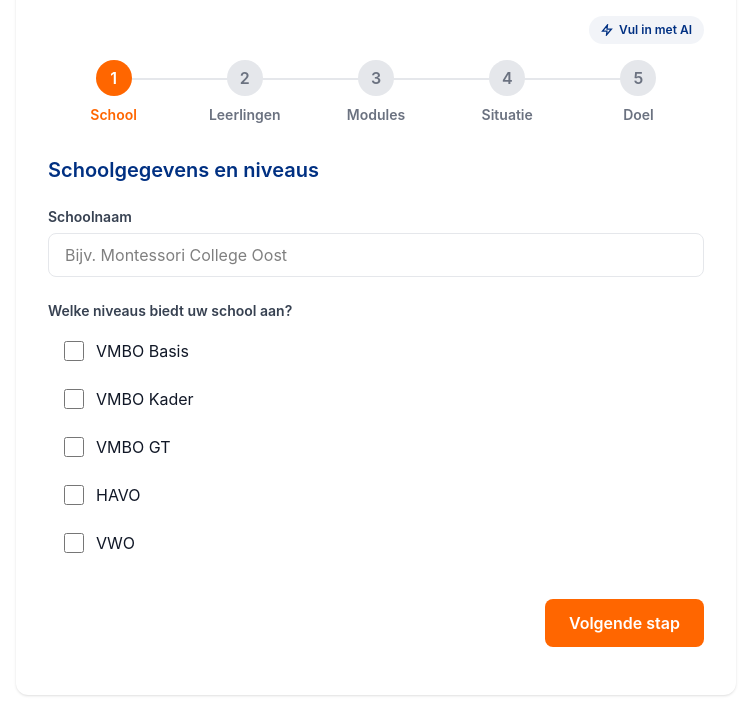
Test: WizardShell - Step rendering and navigation › "Volgende stap" button advances to step 2 when step 1 is valid
Fill required fields for step 1
Type "Test School" into the field labelled "Schoolnaam". click: x=376, y=255
box: x1=48 y1=233 x2=704 y2=277
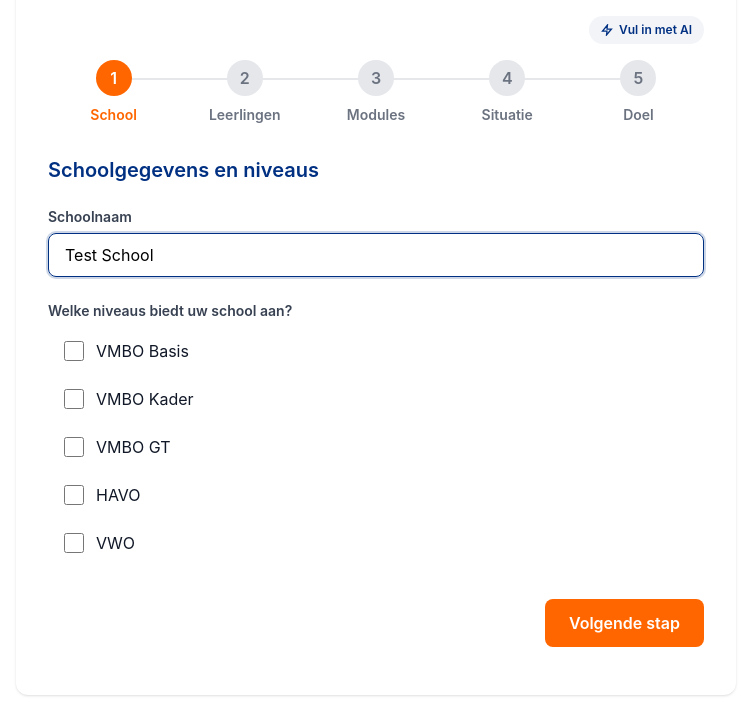
Click the checkbox labelled "HAVO". click: x=74, y=495
box: x1=64 y1=485 x2=84 y2=505
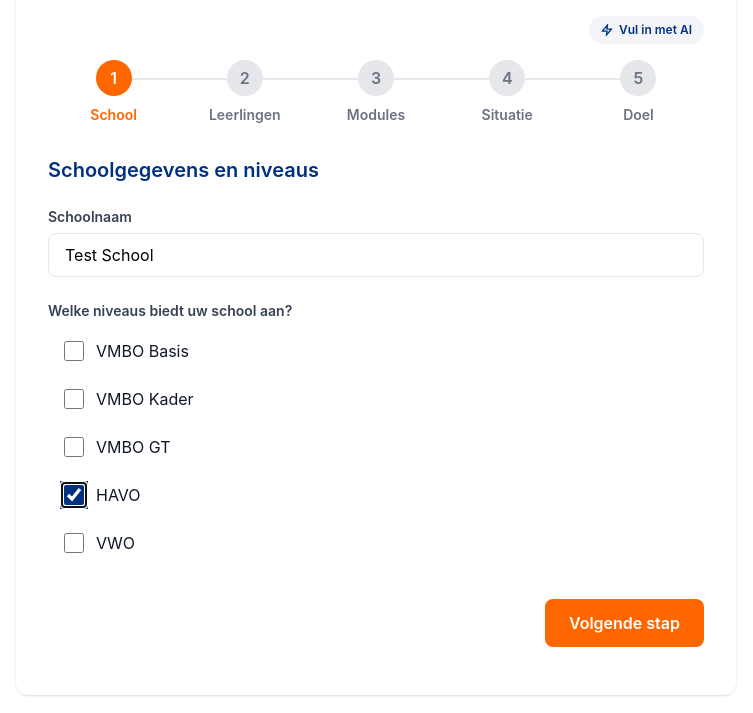
Click next
Click the button "Volgende stap". click: x=624, y=623
box: x1=545 y1=599 x2=704 y2=647
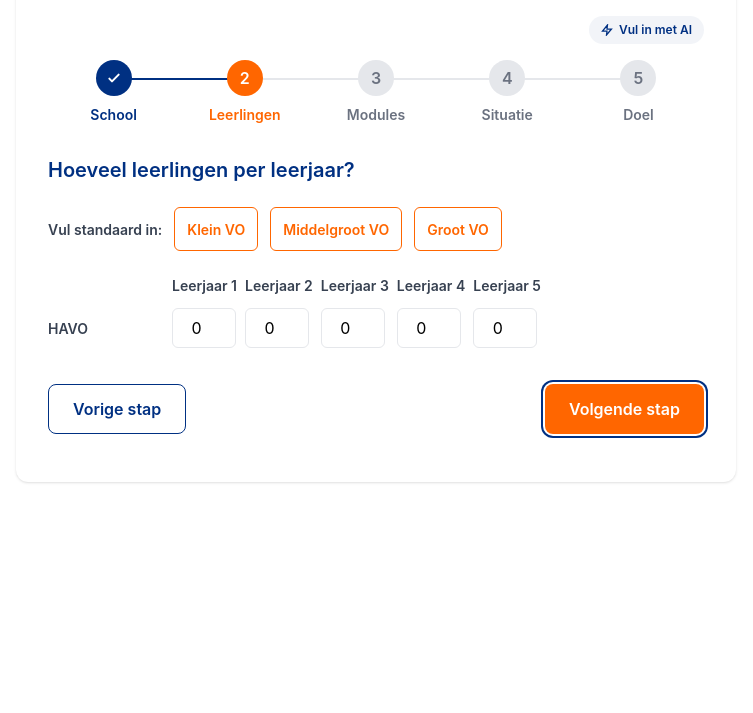
Expected: the heading "Hoeveel leerlingen per leerjaar?" is shown, x1=48 y1=158 x2=355 y2=182
